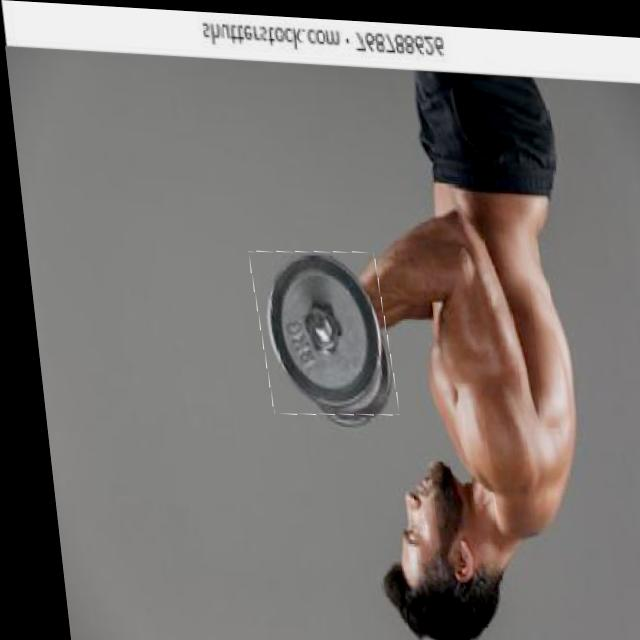barbell: (245, 245, 390, 416)
